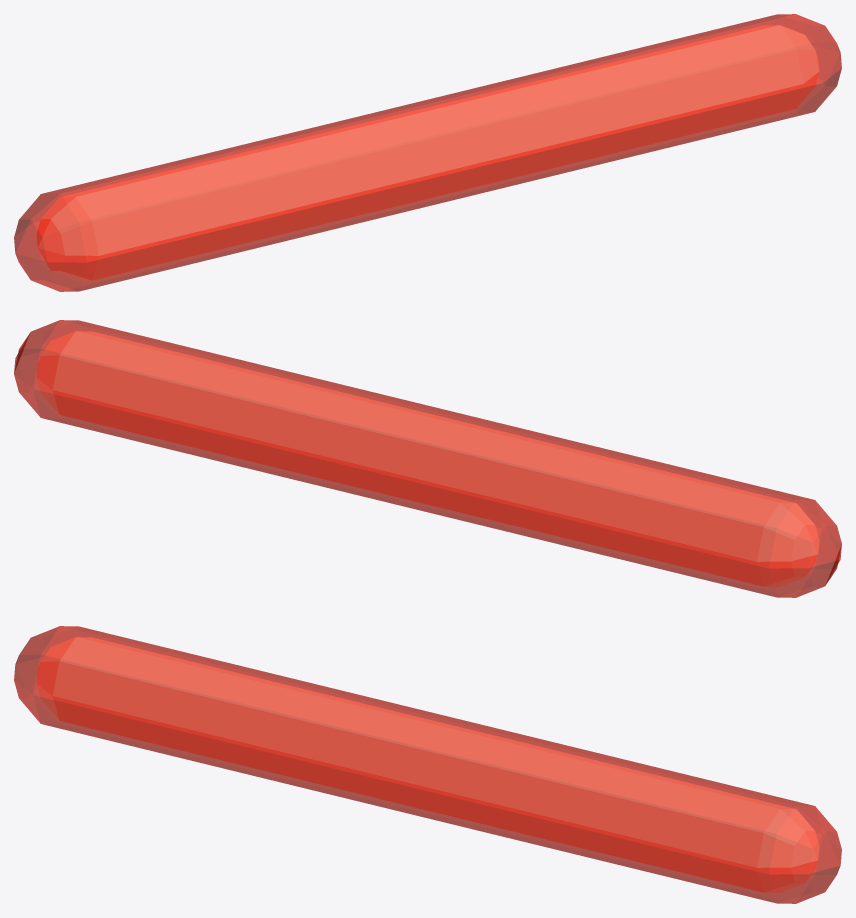
The model's file is Laser.fbx.
3 views of the same model, one above another, from view 1: azimuth 30°, elevation 25°; view 2: azimuth 150°, elevation 25°; view 3: azimuth 330°, elevation 25° (orthographic).
Visible parts, largest first — view 1: Cube; view 2: Cube; view 3: Cube.
Part boxes in pixels (x1,y1,x2,y2): Cube: (14,14,841,291); Cube: (14,320,841,597); Cube: (14,626,841,903).
Size of the model in its own units: 61.16 by 61.16 by 538.
